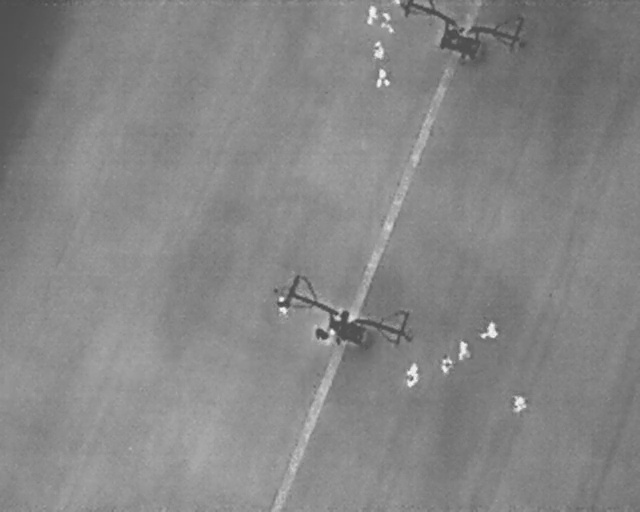Person: (404, 363, 420, 388), (479, 321, 498, 341), (312, 325, 332, 343), (374, 68, 391, 88), (380, 12, 396, 33), (372, 40, 386, 62), (440, 354, 454, 376), (511, 394, 527, 413), (365, 5, 379, 26), (458, 340, 471, 361), (275, 297, 288, 315)
